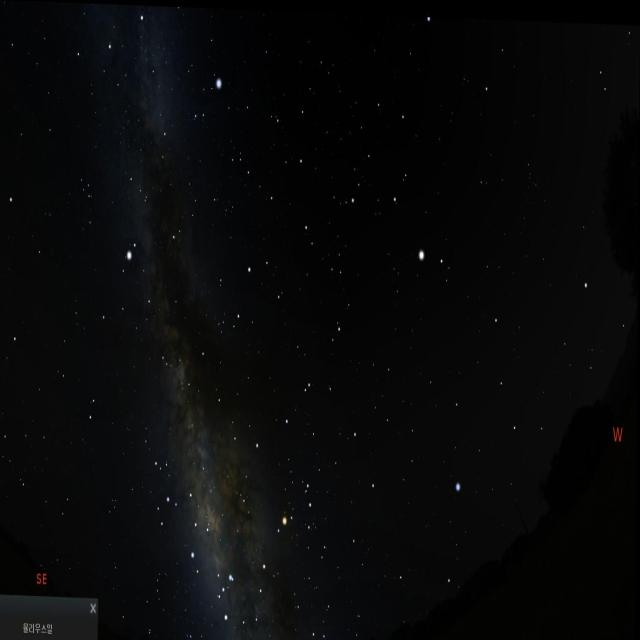aquila: (95, 202, 182, 385)
bootes: (371, 95, 462, 300)
lyra: (190, 74, 227, 130)
sagittarius: (136, 450, 224, 575)
scorpius: (219, 482, 320, 617)
